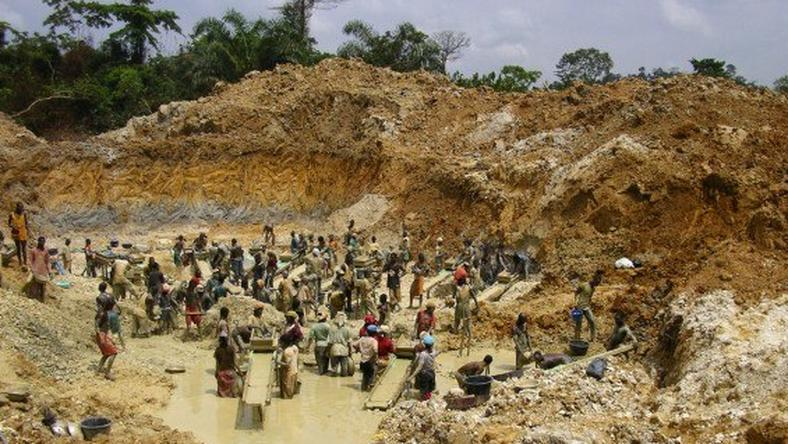MiningTool: (78, 417, 112, 440), (460, 375, 494, 398), (3, 384, 30, 401), (1, 382, 28, 399), (567, 338, 590, 357), (569, 309, 586, 324), (346, 355, 355, 376), (9, 226, 21, 241), (34, 272, 48, 284), (165, 363, 185, 371), (301, 359, 318, 367)
Person: (405, 335, 441, 400), (95, 283, 126, 353), (569, 272, 601, 339), (92, 301, 116, 381), (214, 337, 243, 400), (354, 323, 380, 390), (275, 335, 300, 403), (329, 312, 354, 377), (450, 279, 479, 335), (181, 281, 209, 339), (407, 252, 434, 310), (455, 354, 495, 393), (382, 252, 408, 312), (601, 309, 637, 352), (308, 313, 332, 375), (8, 203, 30, 267), (28, 236, 48, 302), (358, 267, 381, 319), (511, 312, 530, 369), (214, 306, 236, 355), (415, 301, 440, 342), (228, 235, 248, 286), (279, 312, 306, 348), (377, 322, 393, 380), (276, 268, 297, 311), (450, 262, 472, 299), (246, 303, 271, 335), (250, 252, 267, 296), (163, 284, 178, 333), (528, 352, 570, 369), (296, 279, 319, 310), (205, 241, 228, 271), (493, 243, 510, 283), (235, 328, 250, 372), (343, 235, 362, 266), (511, 253, 534, 278), (82, 239, 97, 277), (468, 258, 485, 291), (433, 236, 448, 273), (145, 285, 161, 317), (61, 238, 75, 274), (260, 221, 278, 248), (377, 295, 393, 325), (266, 248, 277, 288), (398, 232, 411, 264), (256, 279, 274, 302), (172, 234, 185, 265), (327, 235, 340, 265), (367, 235, 381, 261), (300, 266, 321, 283), (333, 266, 345, 292), (191, 231, 206, 250), (346, 219, 359, 239), (288, 228, 299, 251), (307, 232, 318, 254), (298, 233, 308, 254), (317, 233, 326, 252)
ProcessingEquipment: (238, 322, 283, 429), (365, 335, 420, 411), (461, 268, 521, 307), (95, 248, 149, 288), (417, 256, 460, 299), (190, 246, 218, 286), (272, 249, 302, 279)
